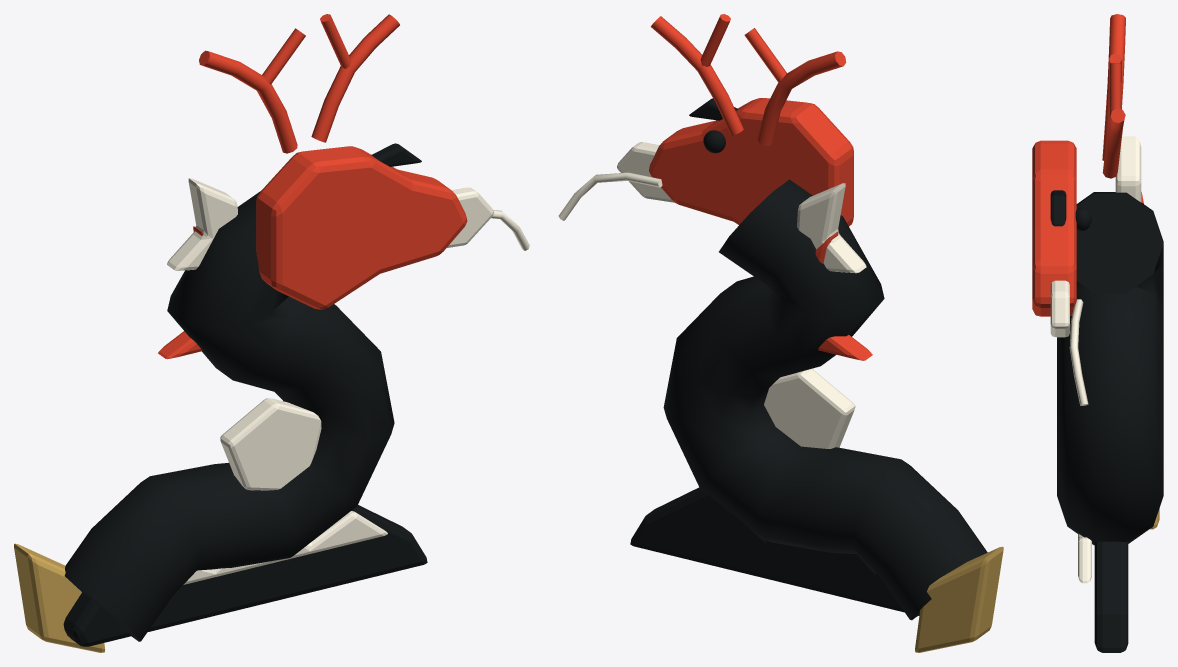
The picture shows the model from 3 angles, left to right: view 1: azimuth 30°, elevation 25°; view 2: azimuth 150°, elevation 25°; view 3: azimuth 270°, elevation 25°; orthographic projection. The views are drawn at different scales.
Parts seen in each view (by area): view 1: 1024 vertical S dragon, 1024 huge dragon head, 1024 ink wave, 1024 ivory belly shield, 1024 gold tail flame, 1024 cheek mane, 1024 paper foam, 1024 antler A, 1024 antler B, 1024 long dragon muzzle, 1024 antler A fork, 1024 flying vermilion mane; view 2: 1024 vertical S dragon, 1024 huge dragon head, 1024 ink wave, 1024 gold tail flame, 1024 ivory belly shield, 1024 cheek mane, 1024 antler B, 1024 antler A, 1024 long dragon muzzle, 1024 flying vermilion mane, 1024 whisker, 1024 antler A fork (+1 smaller); view 3: 1024 vertical S dragon, 1024 huge dragon head, 1024 ink wave, 1024 cheek mane, 1024 long dragon muzzle, 1024 antler A, 1024 antler B, 1024 whisker, 1024 paper foam, 1024 antler B fork, 1024 brow, bold ink eye.
Boxes of the visible parts, box(x1,y1,x2,y2) form: 1024 vertical S dragon: box(64, 191, 394, 641); 1024 huge dragon head: box(256, 146, 467, 309); 1024 ink wave: box(63, 505, 427, 646); 1024 ivory belly shield: box(220, 398, 321, 490); 1024 gold tail flame: box(14, 543, 105, 652); 1024 cheek mane: box(167, 178, 237, 270); 1024 paper foam: box(183, 511, 387, 584); 1024 antler A: box(199, 50, 297, 153); 1024 antler B: box(311, 14, 399, 142); 1024 long dragon muzzle: box(447, 187, 494, 247); 1024 antler A fork: box(262, 28, 305, 84); 1024 flying vermilion mane: box(158, 226, 202, 359); 1024 vertical S dragon: box(663, 179, 987, 620); 1024 huge dragon head: box(649, 98, 853, 226); 1024 ink wave: box(630, 487, 919, 615); 1024 gold tail flame: box(915, 546, 1003, 652); 1024 ivory belly shield: box(764, 368, 855, 448); 1024 cheek mane: box(797, 183, 866, 273); 1024 antler B: box(650, 16, 743, 135); 1024 antler A: box(757, 51, 846, 145); 1024 long dragon muzzle: box(617, 142, 674, 202); 1024 flying vermilion mane: box(815, 232, 872, 360); 1024 whisker: box(558, 172, 662, 220); 1024 antler A fork: box(744, 28, 786, 82); 1024 vertical S dragon: box(1057, 192, 1163, 545); 1024 huge dragon head: box(1032, 140, 1076, 316); 1024 ink wave: box(1094, 541, 1128, 652); 1024 cheek mane: box(1115, 136, 1141, 202); 1024 long dragon muzzle: box(1050, 280, 1069, 337); 1024 antler A: box(1102, 14, 1125, 160); 1024 antler B: box(1102, 108, 1125, 178); 1024 whisker: box(1069, 299, 1088, 405); 1024 paper foam: box(1078, 533, 1091, 583); 1024 antler B fork: box(1109, 63, 1121, 118); 1024 brow: box(1050, 190, 1066, 226); bold ink eye: box(1075, 207, 1091, 230).
Size of the model in its own units: 2.07 by 2.42 by 0.505.
